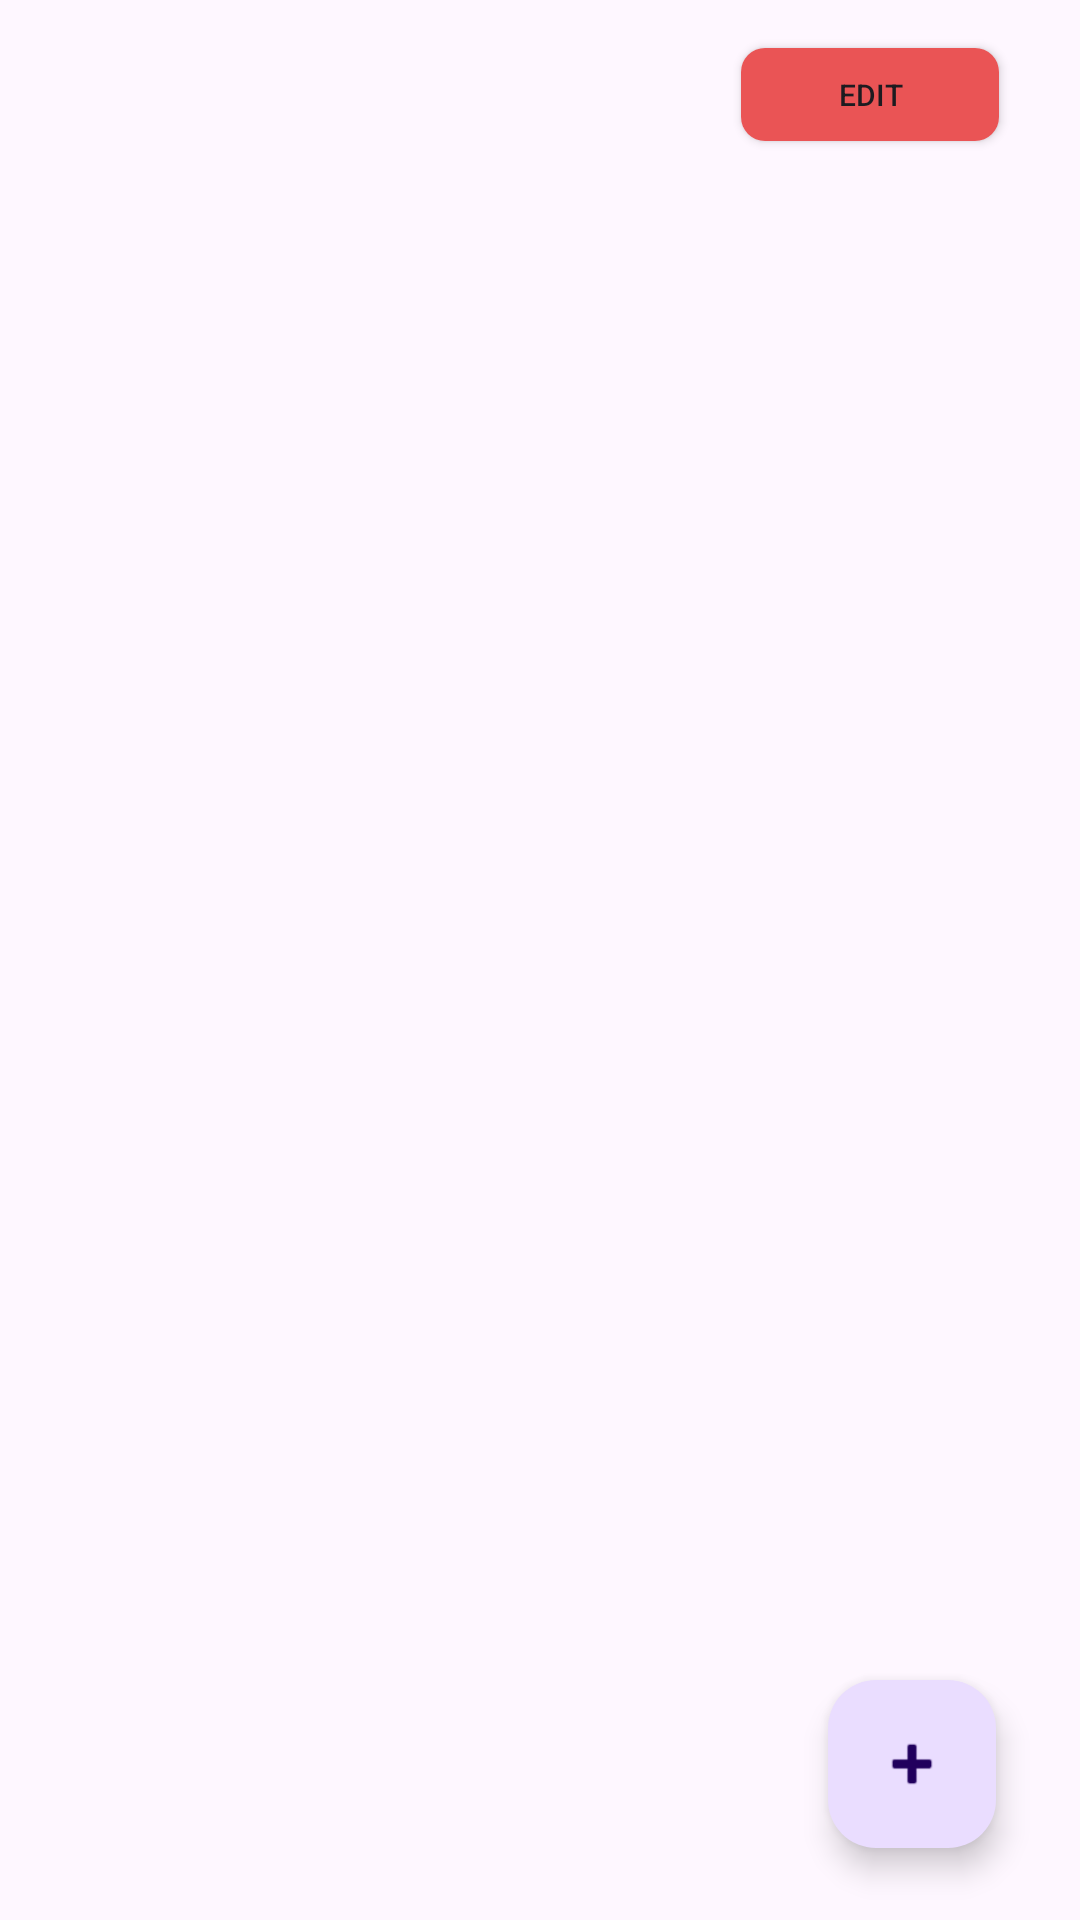

Named icons in this screenshot (1080×1920) and their bounding boxes, detection(x1, y1, x2, y2):
add: detection(828, 1680, 996, 1848)
